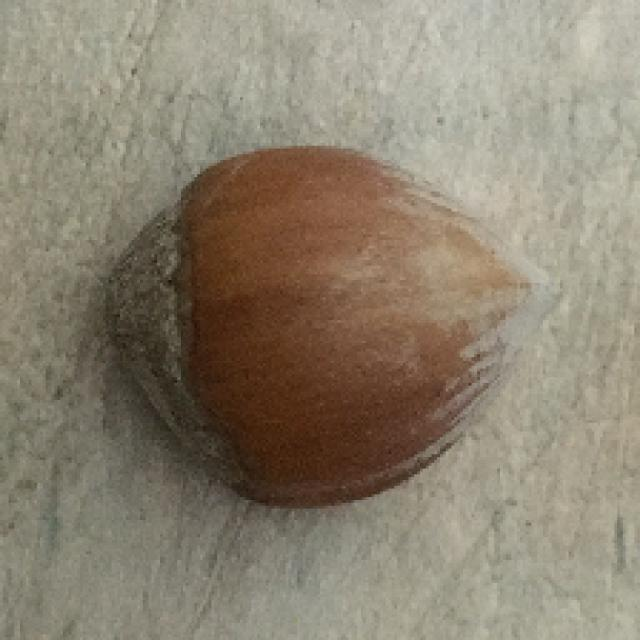qualityHazelnut: (102, 147, 546, 512)
